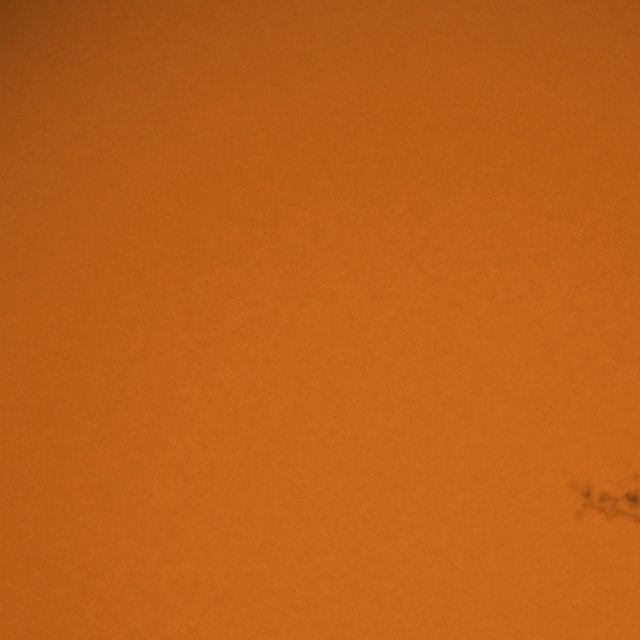sunspot: (572, 486, 640, 526)
